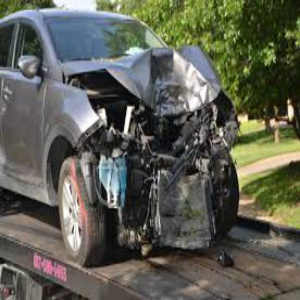bumper: (71, 65, 179, 174)
